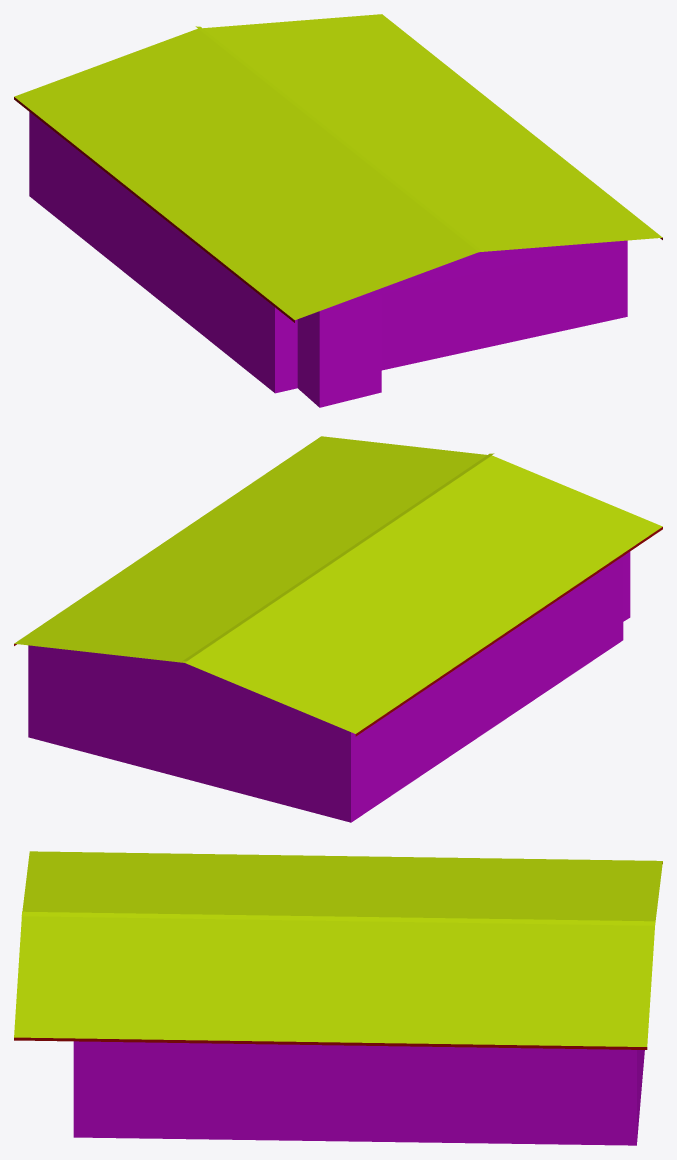
The model's file is bgj_434.glb.
3 renders of one model, top to bottom at view 1: azimuth 30°, elevation 25°; view 2: azimuth 150°, elevation 25°; view 3: azimuth 270°, elevation 25°, orthographic. The views are drawn at different scales.
Visible parts, largest first — view 1: bgj_434; view 2: bgj_434; view 3: bgj_434.
Part boxes in pixels (x1,y1,x2,y2): bgj_434: [14, 14, 662, 407]; bgj_434: [14, 436, 662, 822]; bgj_434: [14, 851, 662, 1145].
Bounding box in the file's own units: 17.11 × 5.5 × 23.98.
